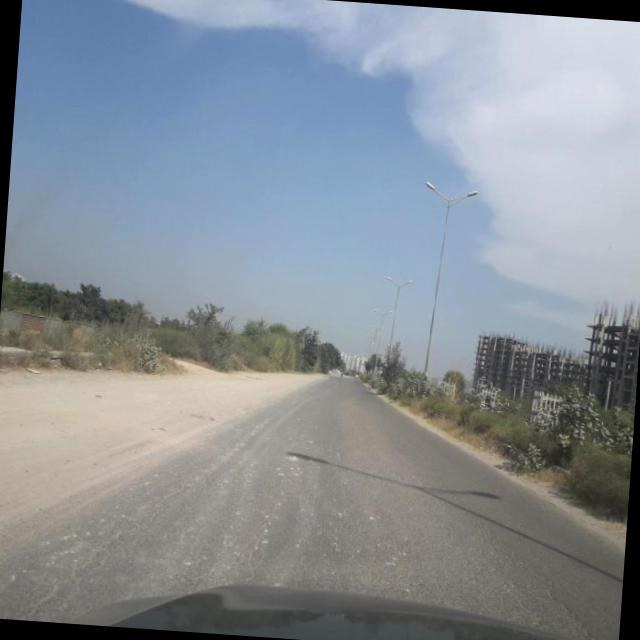crack: (49, 463, 576, 620)
pothole: (5, 460, 207, 630), (534, 557, 620, 631), (230, 500, 272, 582)
